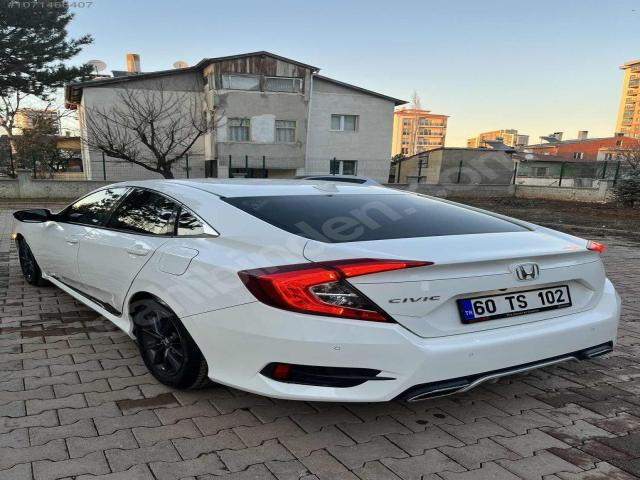plaka: (459, 285, 572, 324)
